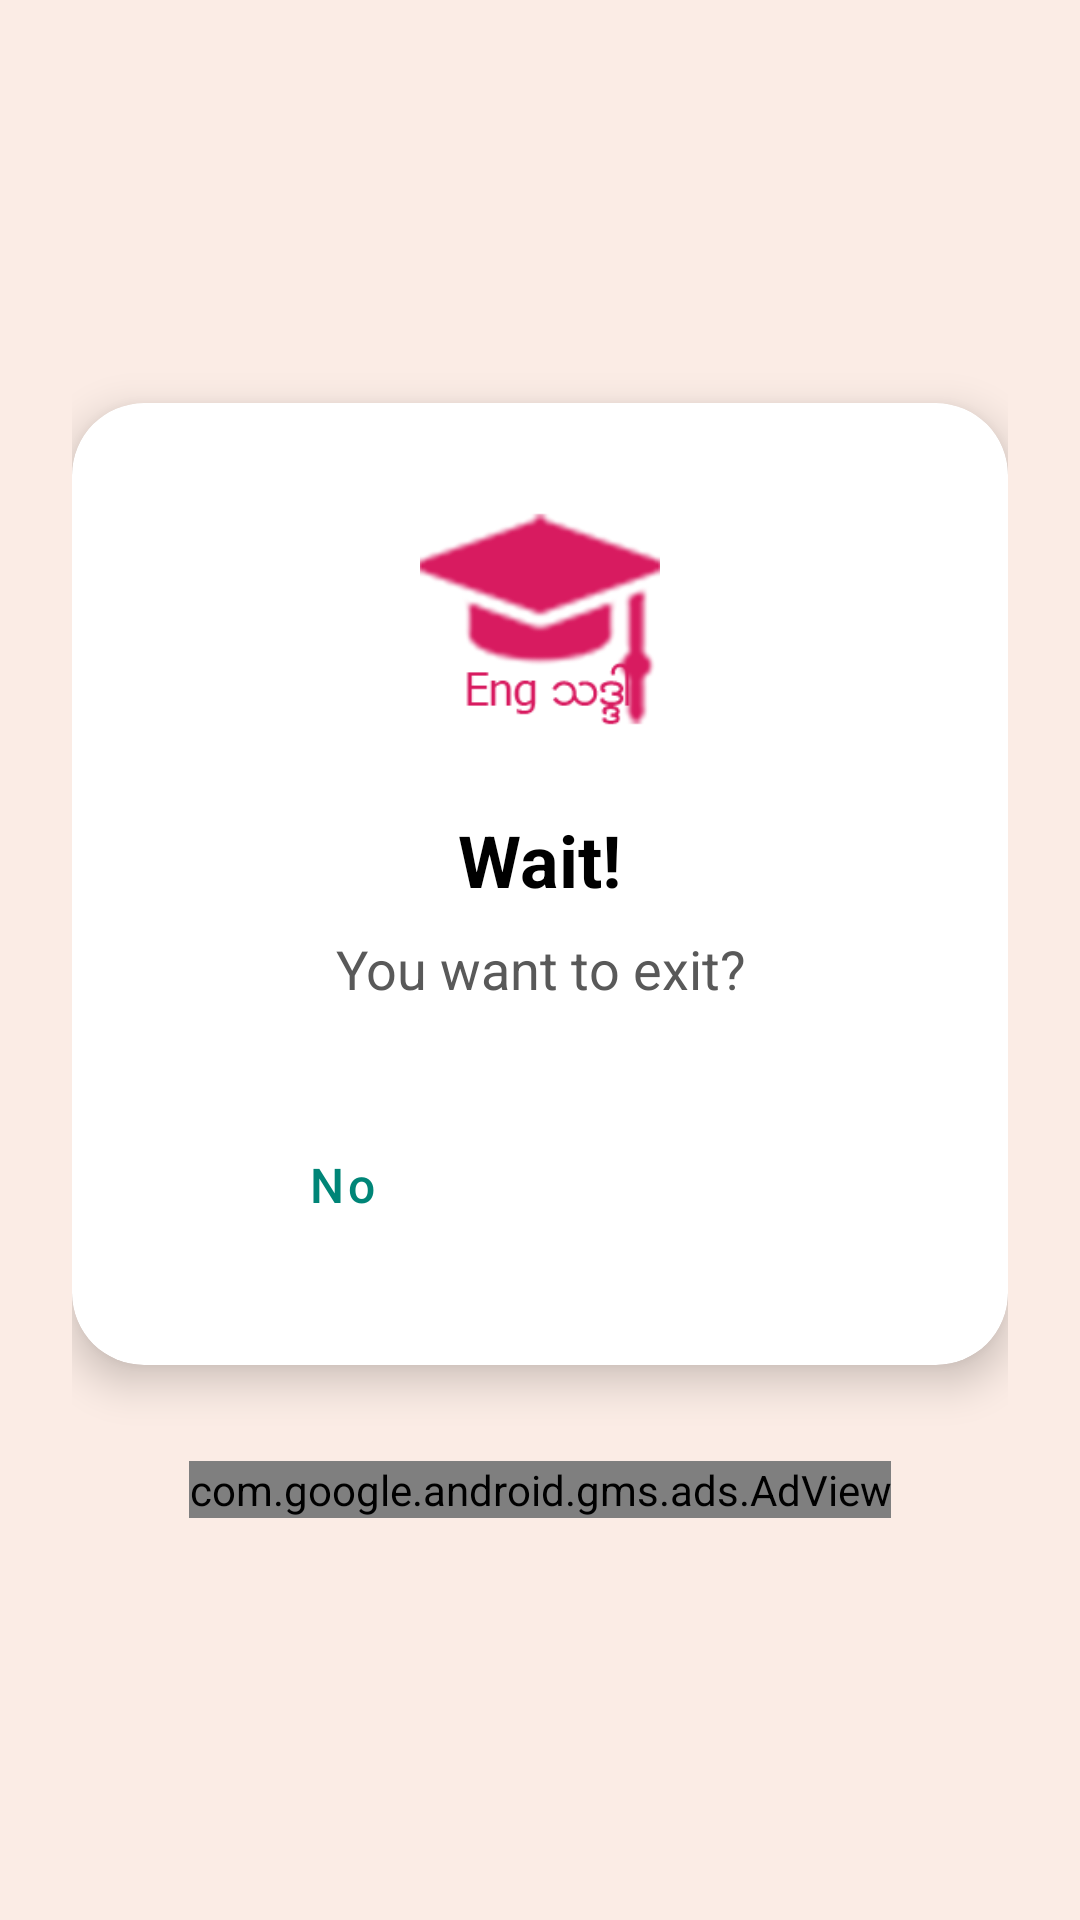

Icons on this 1080x1920 Android screen, each with the point to tap as point (x, y):
graduate: point (540, 619)
